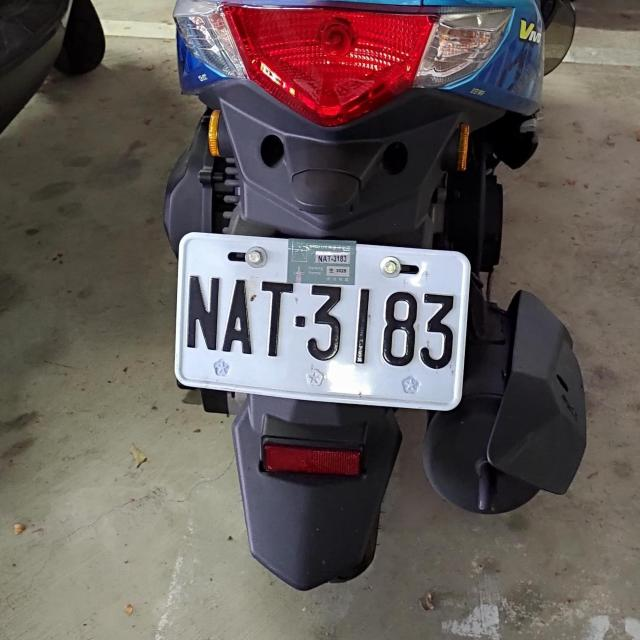W: (172, 235, 474, 407)
